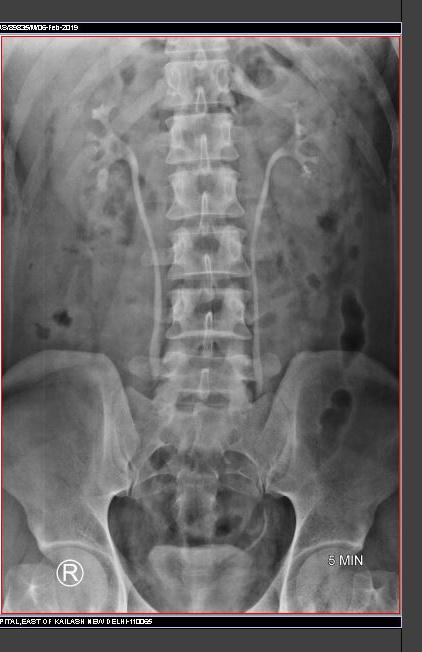bladder: (122, 515, 271, 610)
left kidney: (254, 53, 362, 230)
right kidney: (40, 63, 156, 246)
vertebrae: (163, 112, 242, 165)
